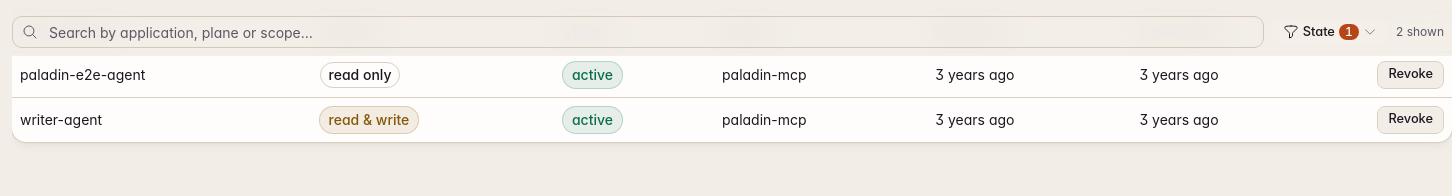
Test: ConnectedApplications › searches the application, plane and scopes
Type "WRITE" into the search field named "Search connected applications" at point(638, 32), box [12,16,1264,48]
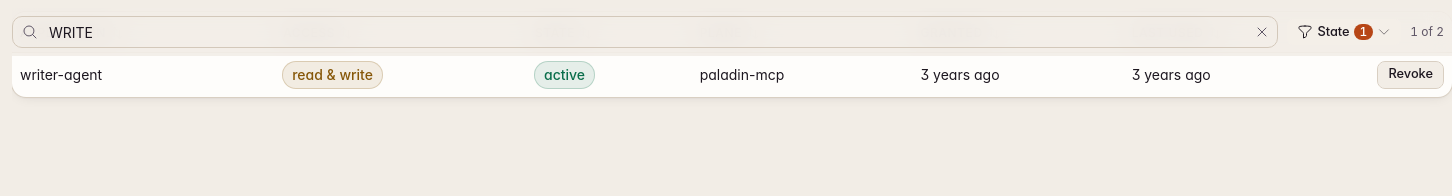
Expected: the text "1 of 2" is shown, [1410,24,1444,40]
Replace the text in the search field named "Search connected applications" with "nothing-like-it" at point(645, 32), box [12,16,1278,48]
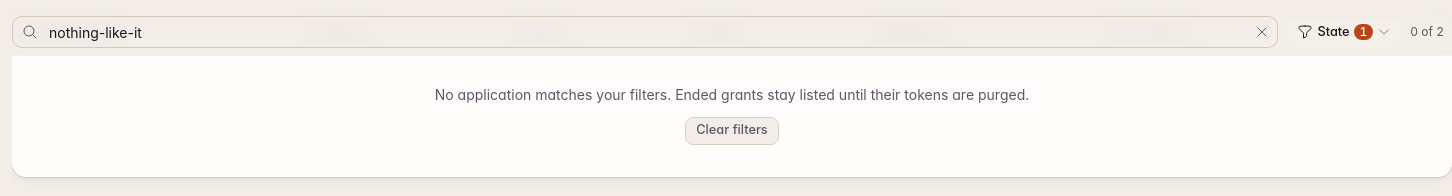
Expected: the text "No application matches your filters." is shown, [435,86,1029,102]
